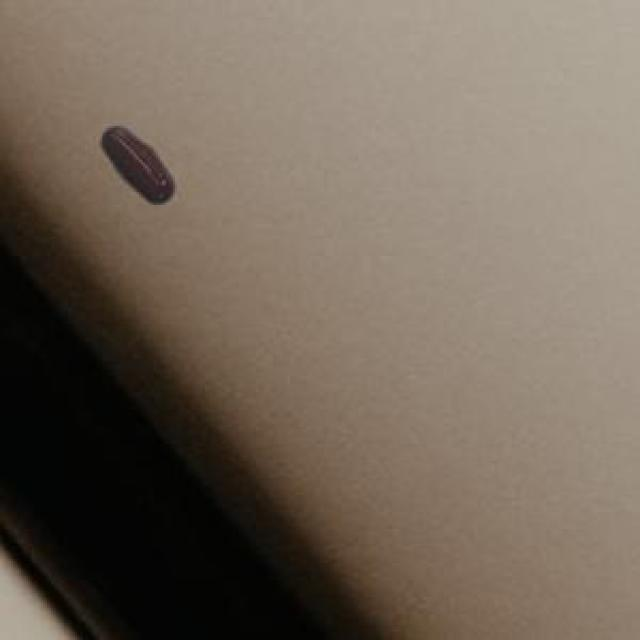DayZinc: (90, 111, 188, 222)
